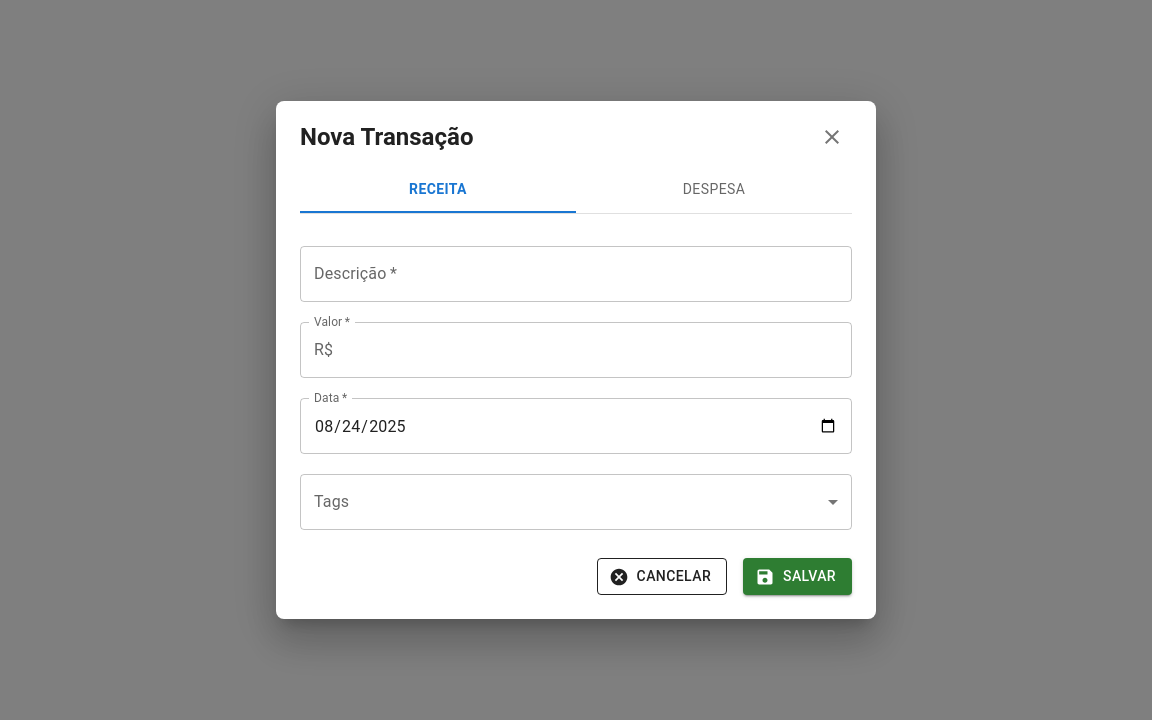
Scenario: CadastroTransacaoModal › deve validar campos obrigatórios
Check: the field labelled "Descrição *" is shown, box top-left (300, 246), bottom-right (852, 302)
# Tentar salvar sem preencher campos
Click the button "Salvar" at (798, 577), box top-left (743, 558), bottom-right (852, 595)
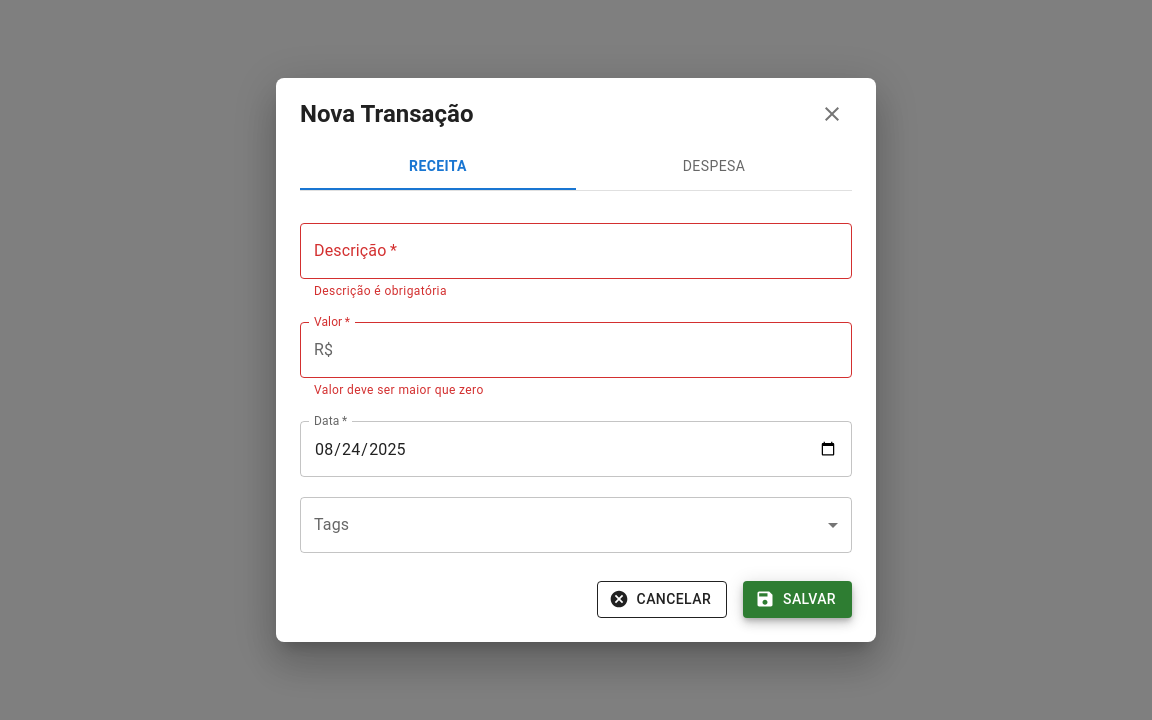
Check: the text "Descrição é obrigatória" is shown, box top-left (314, 284), bottom-right (447, 298)
Check: the text "Valor deve ser maior que zero" is shown, box top-left (314, 383), bottom-right (484, 397)
